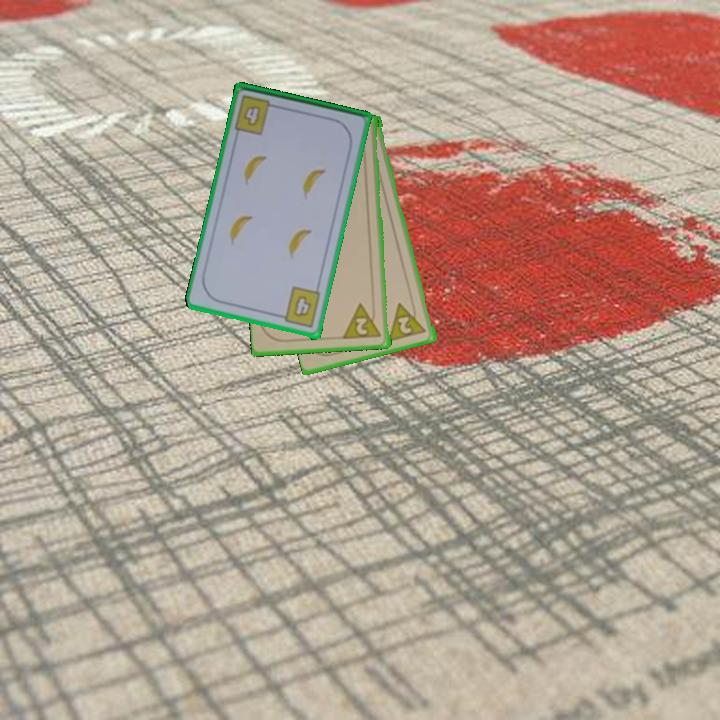2p: (341, 300, 385, 342), (395, 313, 415, 337)
4b: (275, 284, 323, 331), (240, 102, 264, 130)
